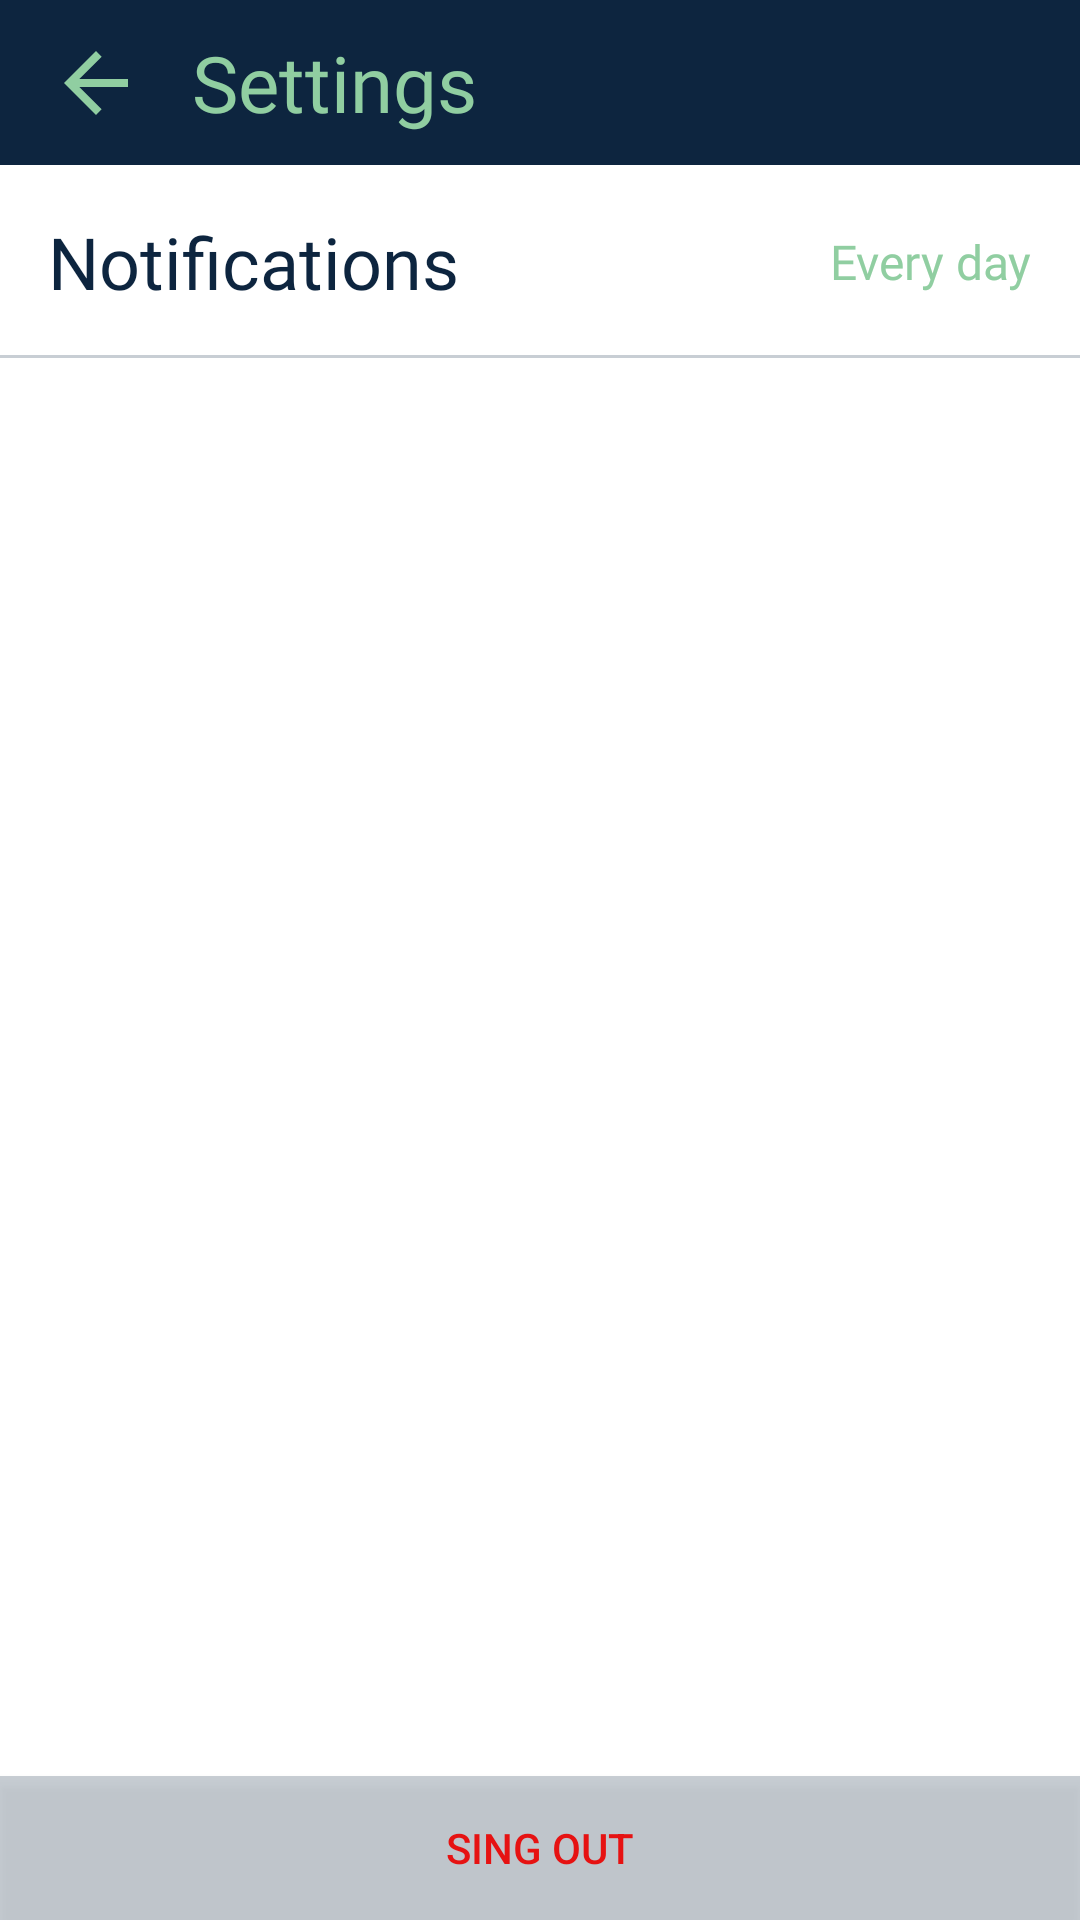

Screen size 1080×1920. Icon name, then its center in pixels as (x,y):
arrow back: (96,83)
